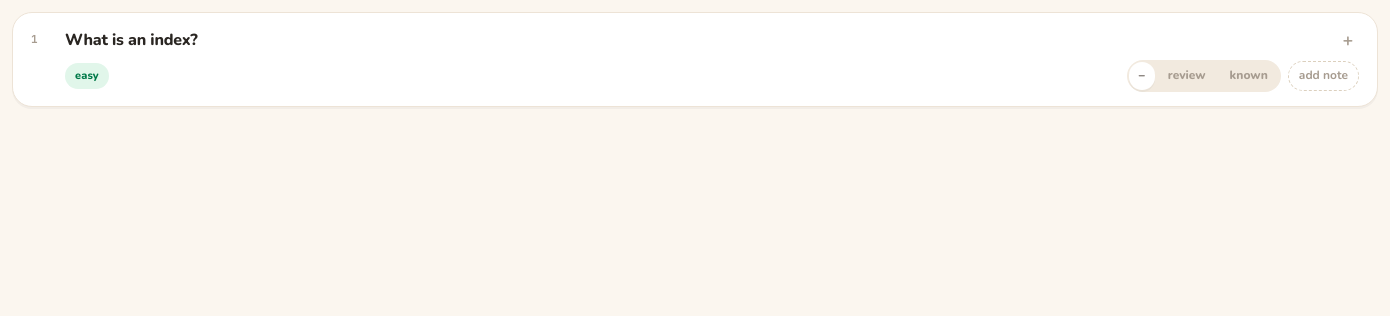
it: QuestionCard notes › will not save an untouched editor
Click the button "add note": (1323, 76) left=1288, top=61, right=1359, bottom=91
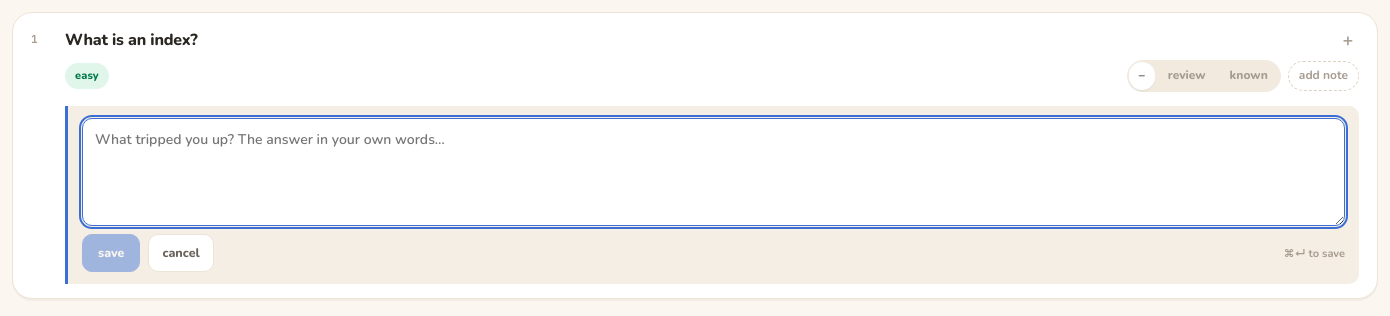
Now the button "save" is disabled, box left=82, top=234, right=140, bottom=272
